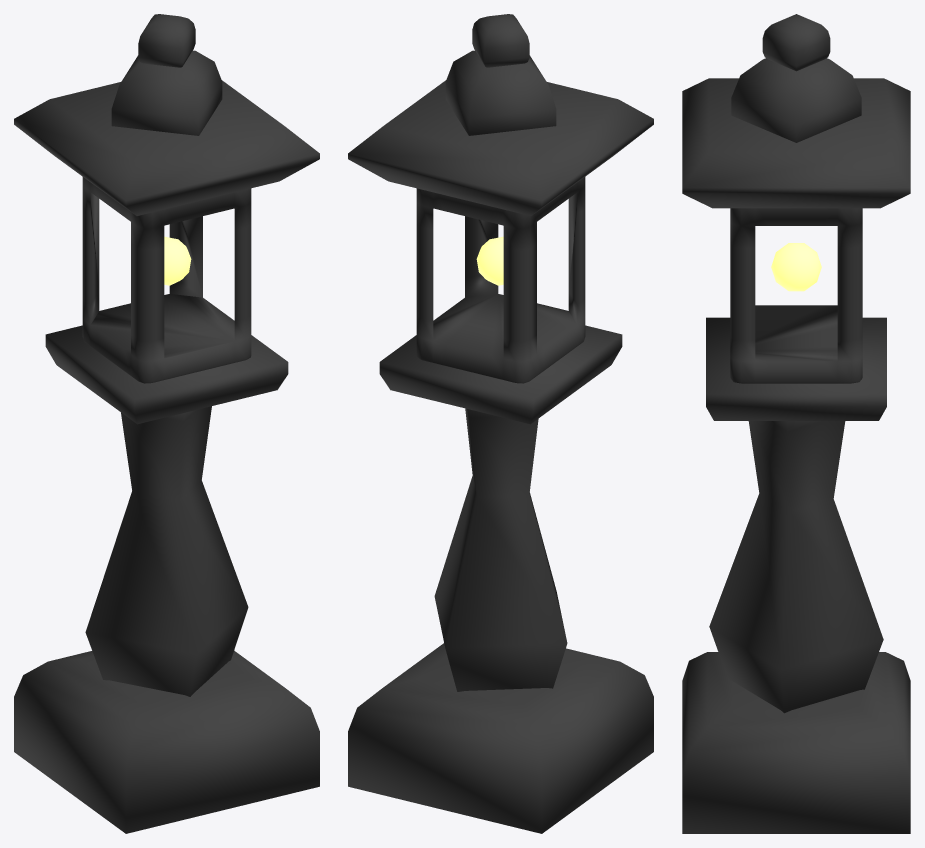
The model's file is street_lamp.fbx.
The picture shows the model from 3 angles, left to right: view 1: azimuth 30°, elevation 25°; view 2: azimuth 150°, elevation 25°; view 3: azimuth 270°, elevation 25°; orthographic projection. The views are drawn at different scales.
Visible parts, largest first — view 1: Cube.002; view 2: Cube.002; view 3: Cube.002.
Boxes of the visible parts, x1,y1,x2,y2 form: Cube.002: (14, 14, 319, 833); Cube.002: (348, 14, 653, 833); Cube.002: (682, 14, 910, 833).
Size of the model in its own units: 200 by 741 by 200.
